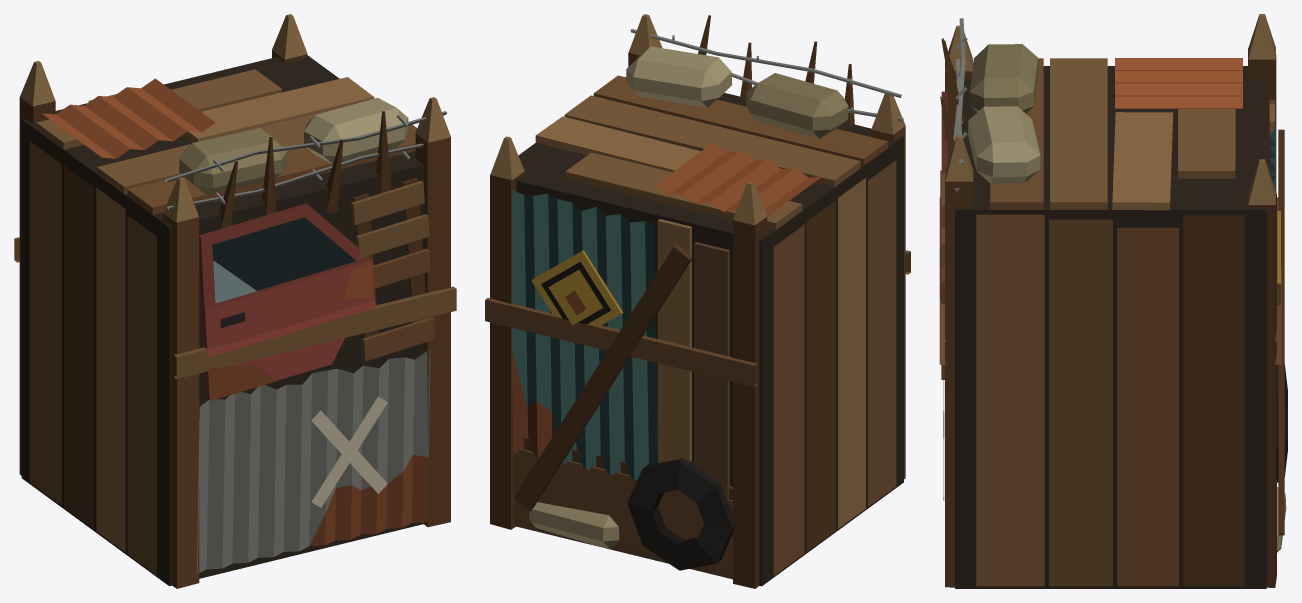
Rendered from muro_2.glb.
The picture shows the model from 3 angles, left to right: view 1: azimuth 30°, elevation 25°; view 2: azimuth 150°, elevation 25°; view 3: azimuth 270°, elevation 25°; orthographic projection. The views are drawn at different scales.
Visible parts, largest first — view 1: muro_2.001; view 2: muro_2.001; view 3: muro_2.001.
Boxes of the visible parts, left/top/right/bottom form: muro_2.001: left=14, top=14, right=456, bottom=588; muro_2.001: left=485, top=14, right=910, bottom=588; muro_2.001: left=939, top=14, right=1287, bottom=588.
Size of the model in its own units: 1.62 by 2.35 by 1.63.
